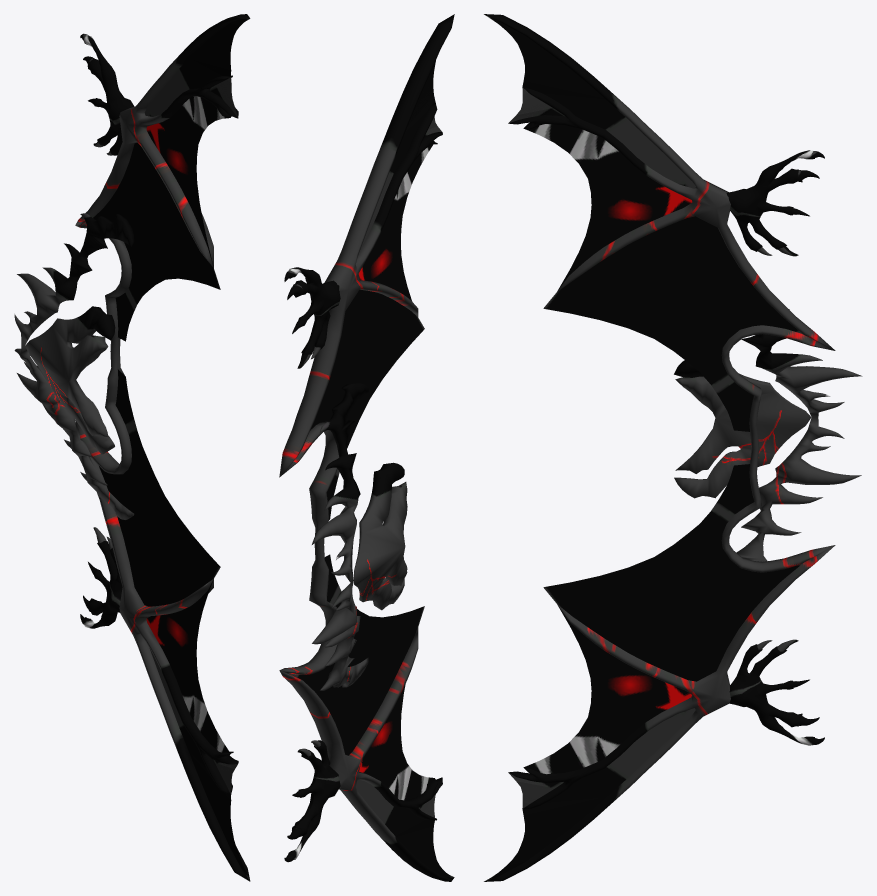
File: bow01a_e512f2ad.glb
The picture shows the model from 3 angles, left to right: view 1: azimuth 30°, elevation 25°; view 2: azimuth 150°, elevation 25°; view 3: azimuth 270°, elevation 25°; orthographic projection.
Size of the model in its own units: 0.3377 by 3.49 by 1.38.
Materials: 1 (1 with a texture image).
